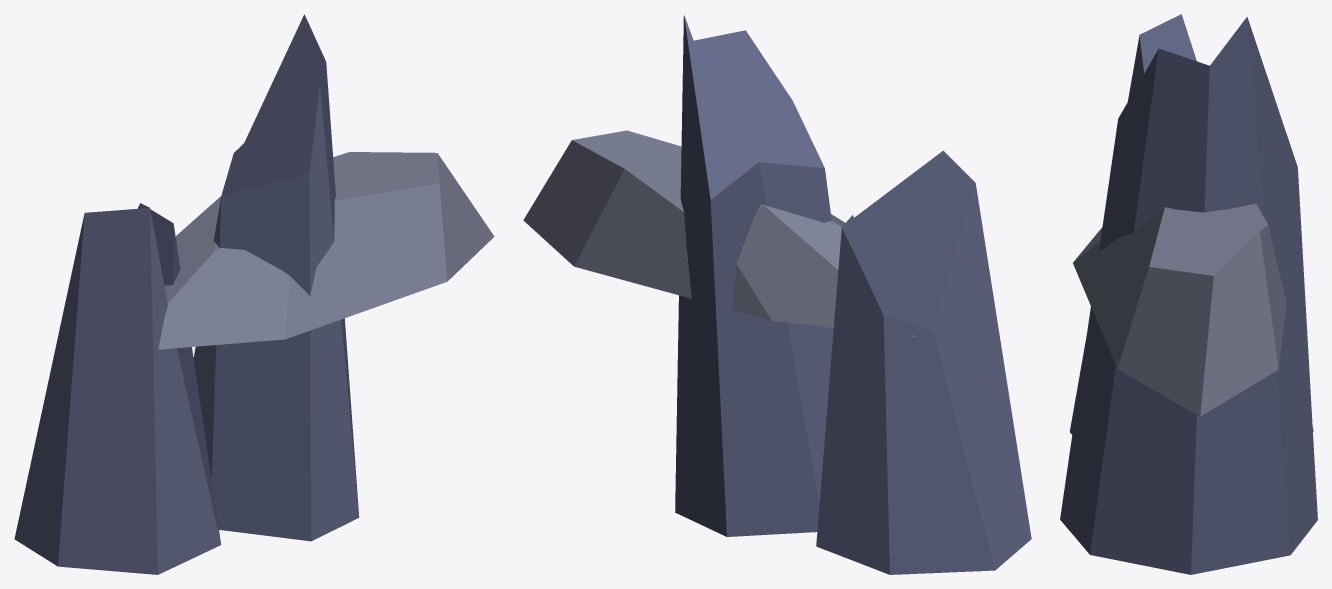
File: map-boundaries-v5__highland_03.glb
The picture shows the model from 3 angles, left to right: view 1: azimuth 30°, elevation 25°; view 2: azimuth 150°, elevation 25°; view 3: azimuth 270°, elevation 25°; orthographic projection. The views are drawn at different scales.
Visible parts, largest first — view 1: highland_03; view 2: highland_03; view 3: highland_03.
Boxes of the visible parts, x1=… form: highland_03: x1=14, y1=14, x2=494, y2=574; highland_03: x1=523, y1=15, x2=1031, y2=574; highland_03: x1=1060, y1=14, x2=1317, y2=574.
Size of the model in its own units: 1.55 by 1.45 by 0.622.
